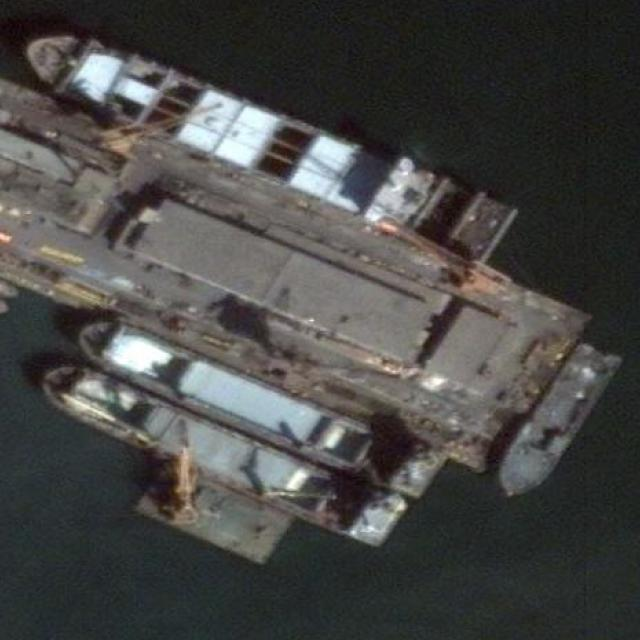Cargo: (17, 18, 520, 268), (35, 356, 403, 548), (69, 308, 378, 476)
